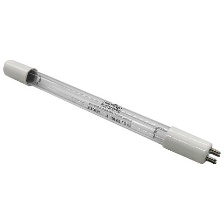light_bulb: (0, 58, 224, 166)
